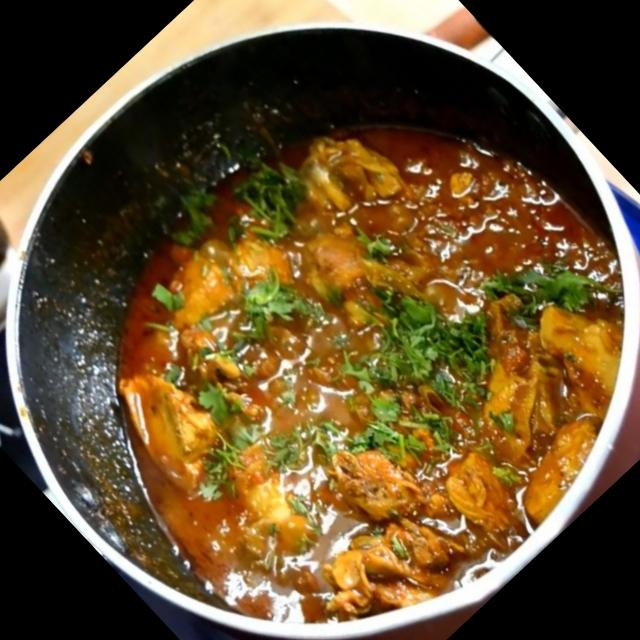chicken: (27, 31, 640, 640)
